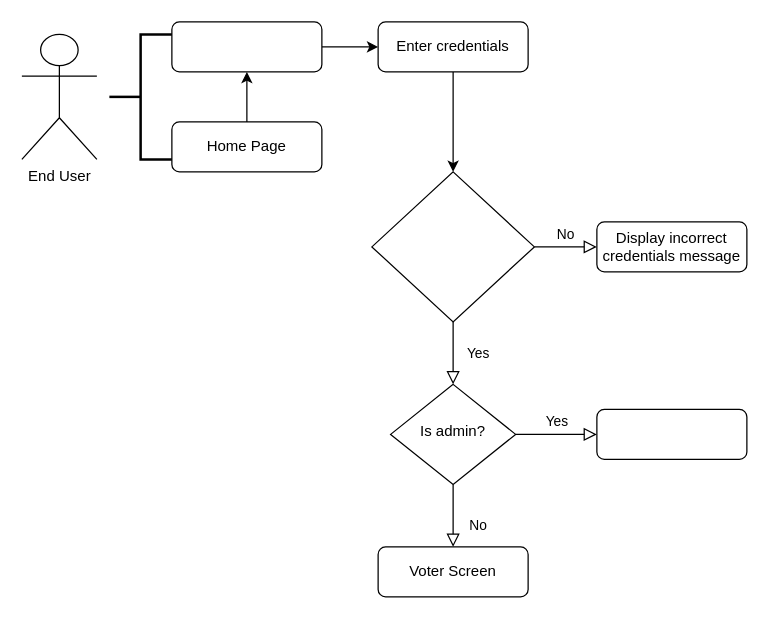
Some shapes in this 769 by 619 pixel diagram are drawn without their labels. The shapes that lost their labels are listed below. From the top down, each one's box as (x1, y1, x2, y2) in pixels, then its label:
(171, 21, 322, 72): Login Page
(371, 171, 534, 322): Valid credentials entered?
(596, 408, 747, 459): Admin screen
